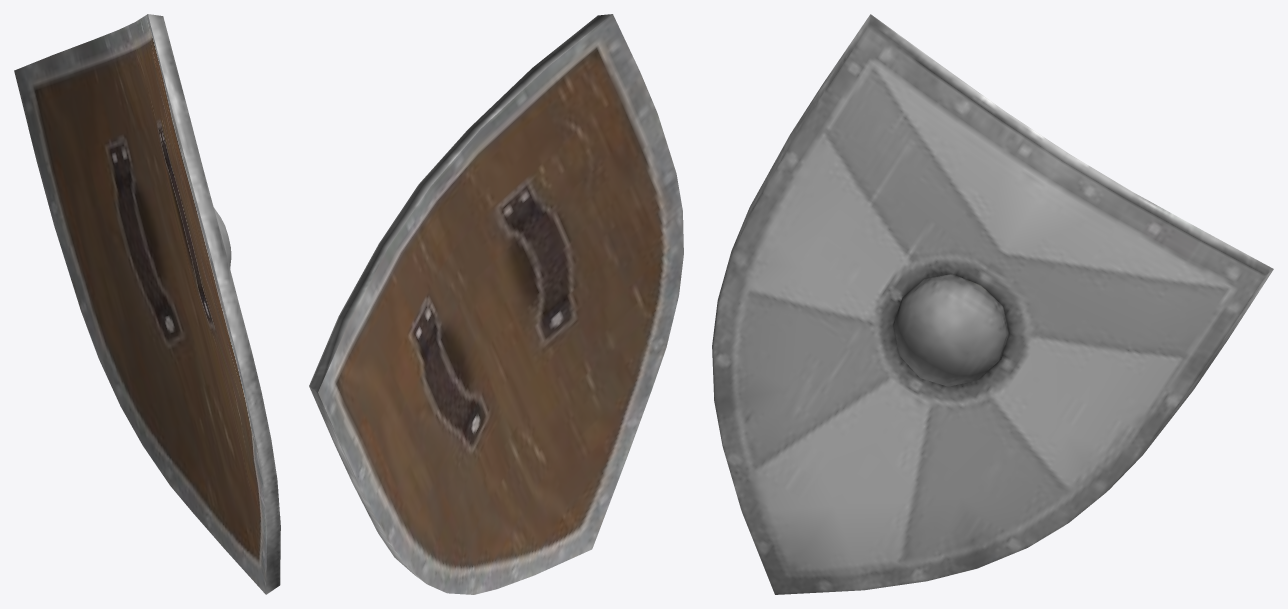
Rendered from rider-shield-slice-ironshields.glb.
The picture shows the model from 3 angles, left to right: view 1: azimuth 30°, elevation 25°; view 2: azimuth 150°, elevation 25°; view 3: azimuth 270°, elevation 25°; orthographic projection. The views are drawn at different scales.
Size of the model in its own units: 0.1634 by 0.7405 by 0.6893.
Materials: 1 (1 with a texture image).
